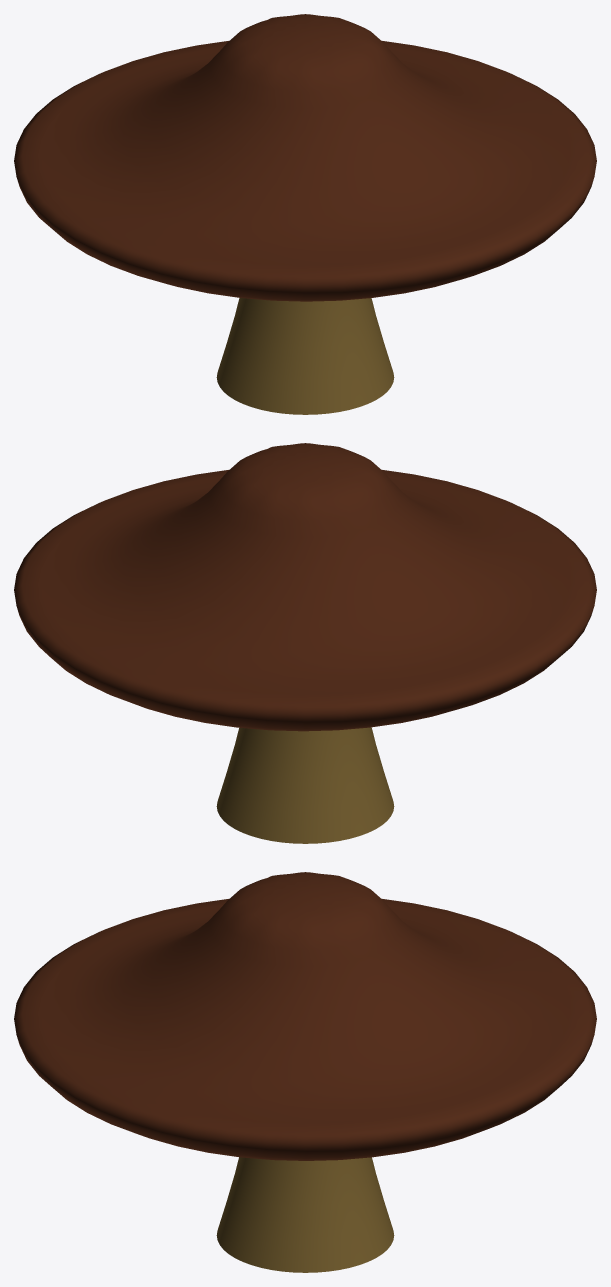
Rendered from Mushroom2Ani.fbx.
The picture shows the model from 3 angles, top to bottom: view 1: azimuth 30°, elevation 25°; view 2: azimuth 150°, elevation 25°; view 3: azimuth 270°, elevation 25°; orthographic projection.
Visible parts, largest first — view 1: polySurface2, polySurface1; view 2: polySurface2, polySurface1; view 3: polySurface2, polySurface1.
Boxes of the visible parts, x1=… form: polySurface2: x1=14, y1=14, x2=596, y2=301; polySurface1: x1=216, y1=298, x2=394, y2=414; polySurface2: x1=14, y1=443, x2=596, y2=731; polySurface1: x1=216, y1=727, x2=394, y2=843; polySurface2: x1=14, y1=872, x2=596, y2=1160; polySurface1: x1=216, y1=1157, x2=394, y2=1272.
Size of the model in its own units: 6.28 by 4.09 by 6.28.
